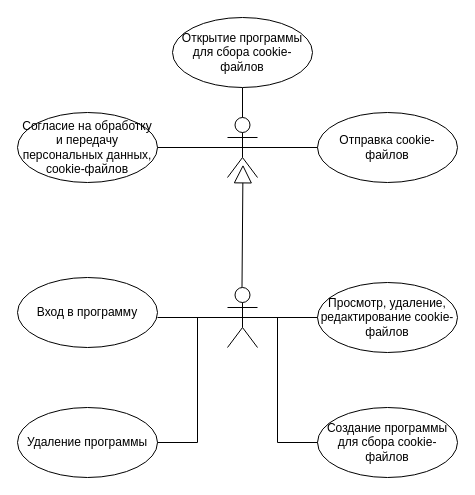
Image size: 475x495. Some labels were removed from this diagram. The shapes that lost their labels are listed below. From the top down, each one's box as (x1, y1, x2, y2) in pixels, then its label:
(226, 116, 258, 178): User
(226, 286, 258, 348): Admin
